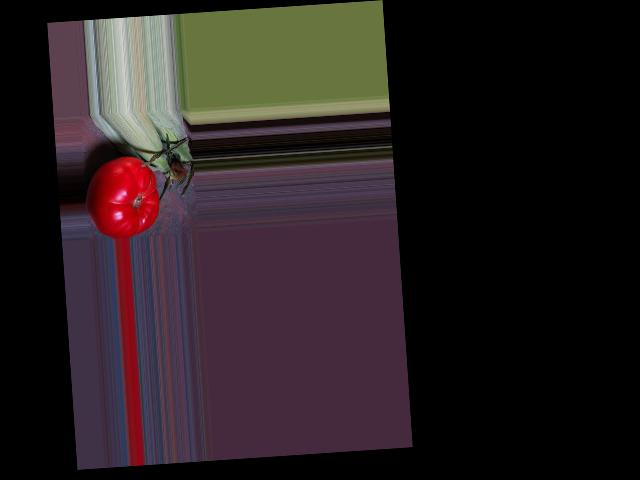tomato: (83, 154, 161, 240)
